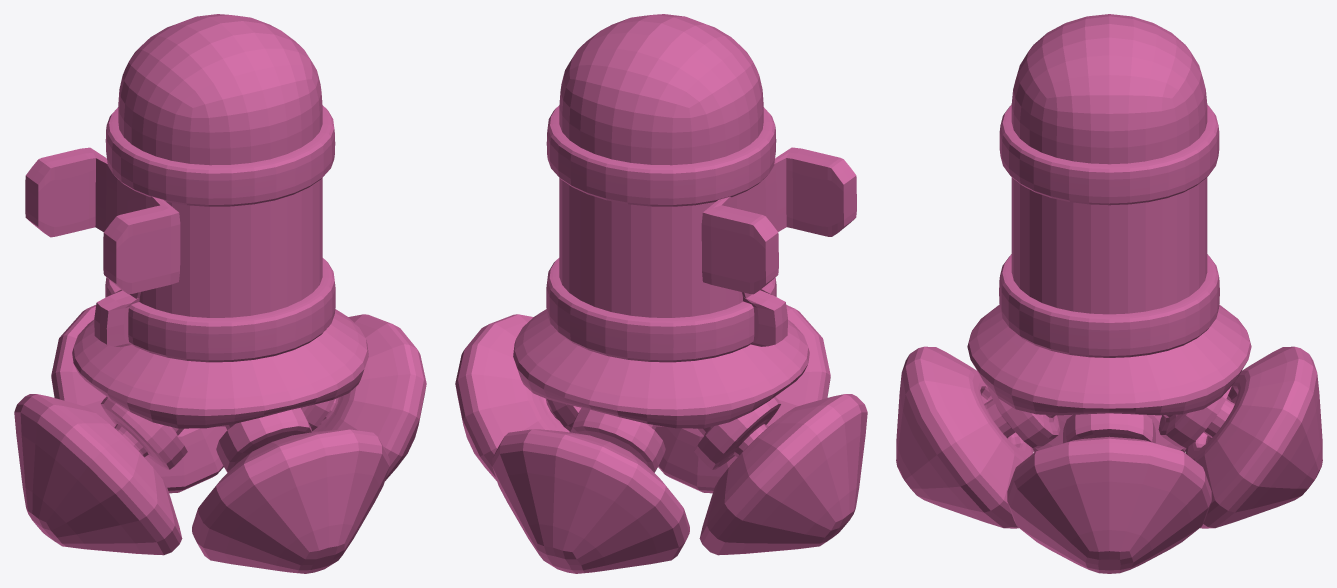
File: TunnelerDrill_lp.fbx
3 renders of one model, left to right at view 1: azimuth 30°, elevation 25°; view 2: azimuth 150°, elevation 25°; view 3: azimuth 270°, elevation 25°, orthographic.
Visible parts, largest first — view 1: Motor_lp; view 2: Motor_lp; view 3: Motor_lp.
Part boxes in pixels (<box>): Motor_lp: <box>14,14,426,573</box>; Motor_lp: <box>455,14,867,573</box>; Motor_lp: <box>896,14,1322,573</box>.
Bounding box in the file's own units: 371 × 472 × 371.
